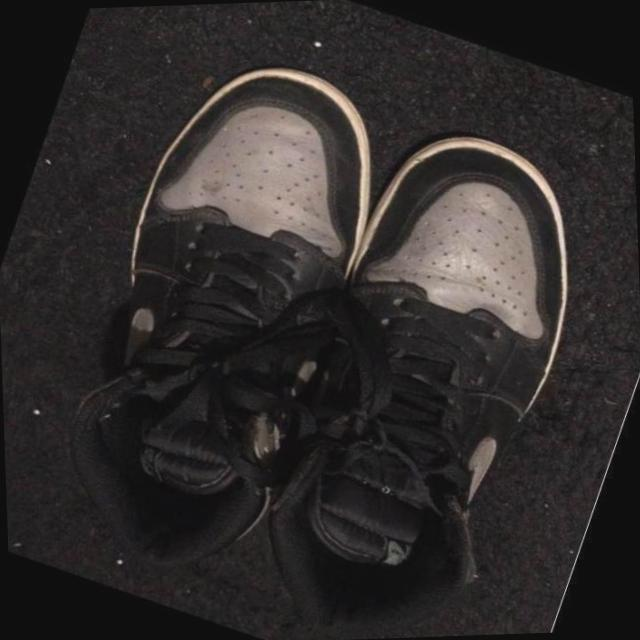nike_fake_jordan: (16, 24, 429, 598), (221, 98, 640, 640)
